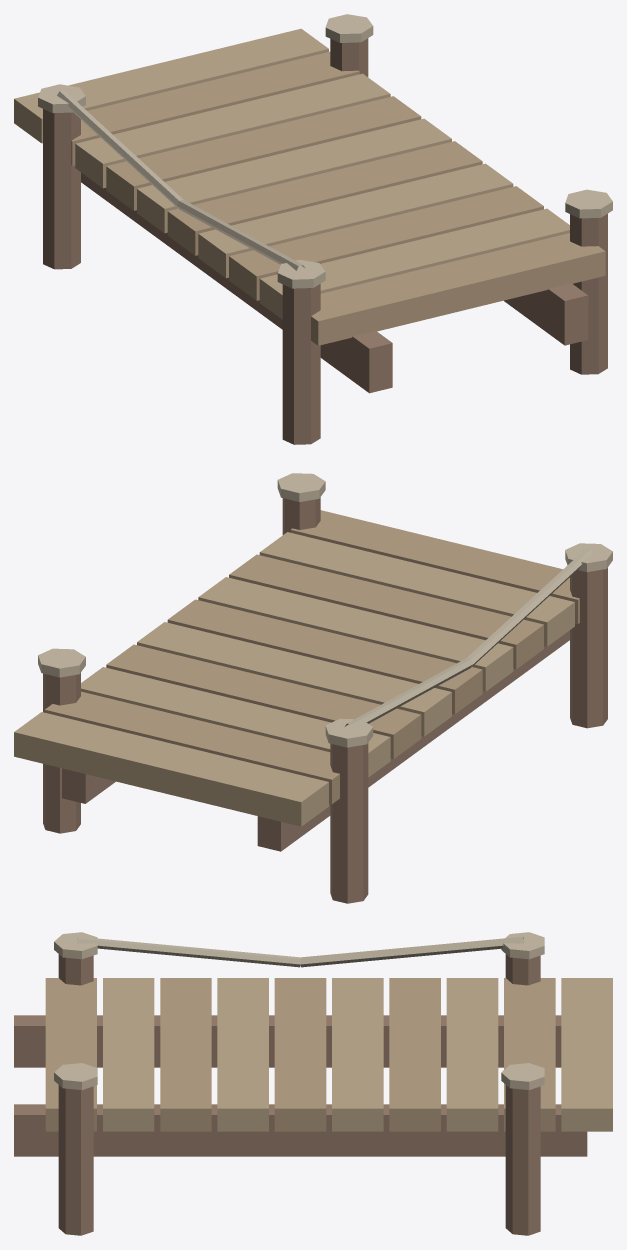
3 renders of one model, top to bottom at view 1: azimuth 30°, elevation 25°; view 2: azimuth 150°, elevation 25°; view 3: azimuth 270°, elevation 25°, orthographic. The views are drawn at different scales.
Visible parts, largest first — view 1: H03; view 2: H03; view 3: H03.
Part boxes in pixels (x1,y1,x2,y2): H03: (14, 14, 612, 444); H03: (14, 473, 612, 903); H03: (14, 932, 612, 1235).
Bounding box in the file's own units: 1.54 × 0.769 × 2.61.
